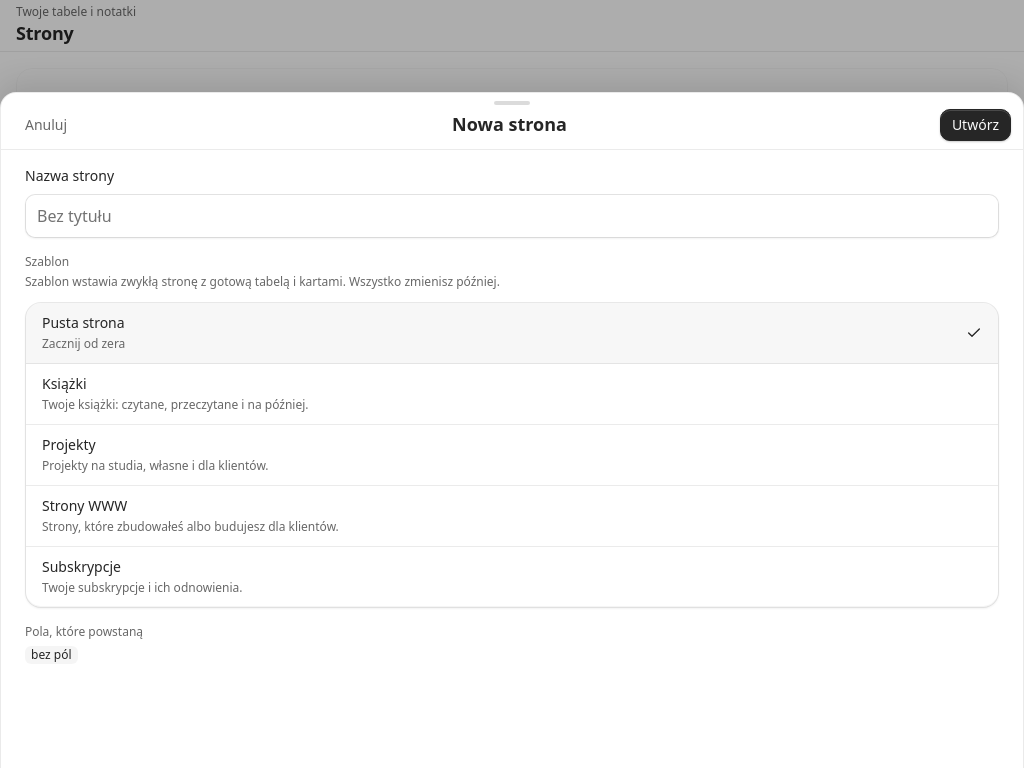
NewPageView: telefon (CMNewPage) › lista szablonów z opisami i aria-pressed; wybór podpowiada nazwę i pola
Check: the text "Zacznij od zera" is shown, box [42,335,125,352]
Check: the text "bez pól" is shown, box [25,646,78,664]
What coordinates should you click on to do the following:
click the button "Książki Twoje książki: czytane, przeczytane i na później."
I would click on:
 (64, 384)
Its box is [26,364,998,425].
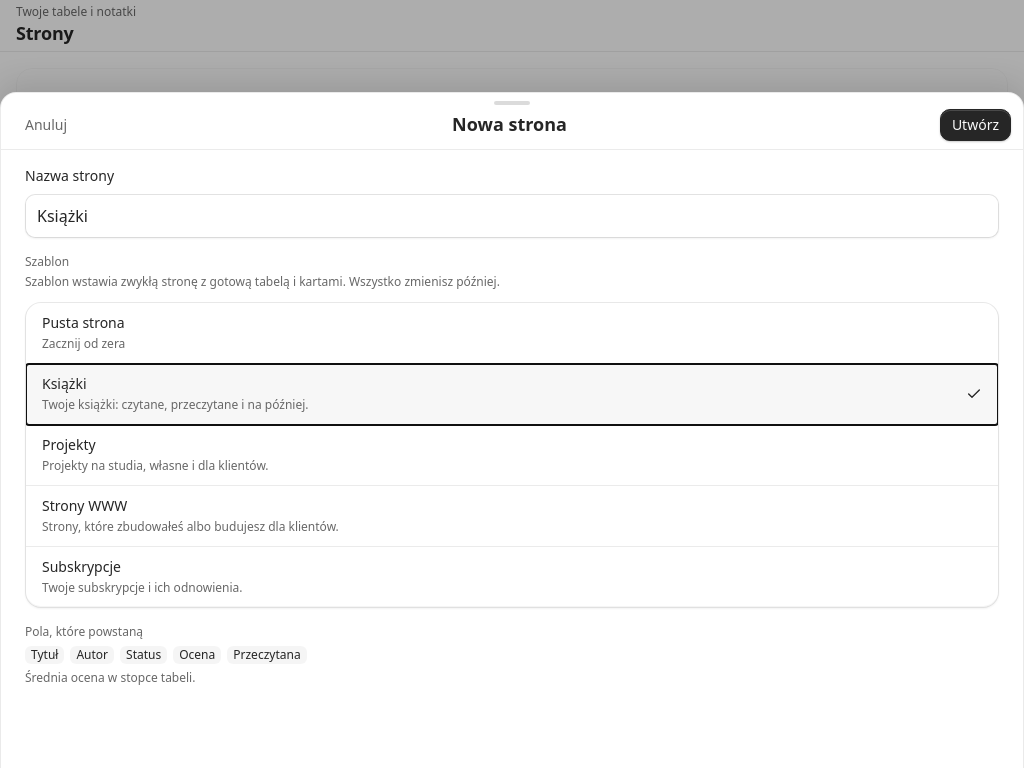
Check: the field labelled "Nazwa strony" holds "Książki", box [25,194,999,238]
Check: the text "Tytuł" is shown, box [25,646,64,664]
Check: the text "Autor" is shown, box [70,646,114,664]
